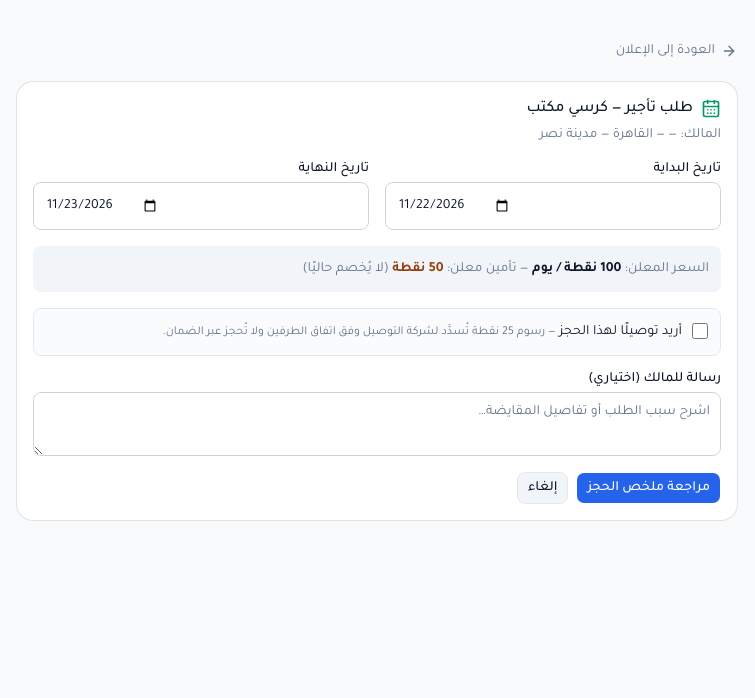
Scenario: A6 delivery in the booking flow (SRS §9.2 · 0033) › prices the delivery row from the listing fee and submits the choice (0033)
Later steps or results of the test are not shown.
Expected: the text "تاريخ البداية" is shown, [654,162,721,176]
Click the checkbox labelled "أريد توصيلًا لهذا الحجز".
click(700, 331)  # box [692,323,708,339]
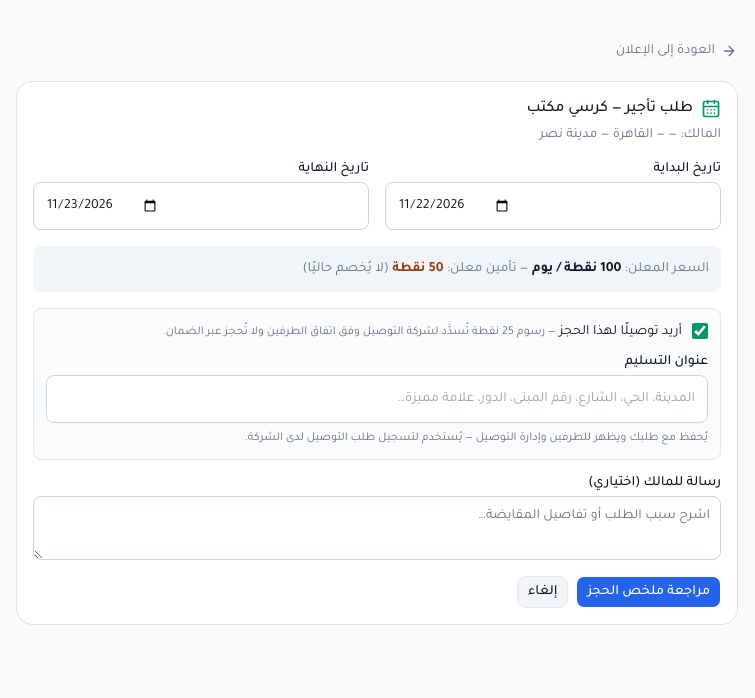
Type "القاهرة — مدينة نصر — شارع مصطفى النحاس 12" into the field labelled "عنوان التسليم".
click(377, 399); type("القاهرة — مدينة نصر — شارع مصطفى النحاس 12")  # box [46,375,708,423]
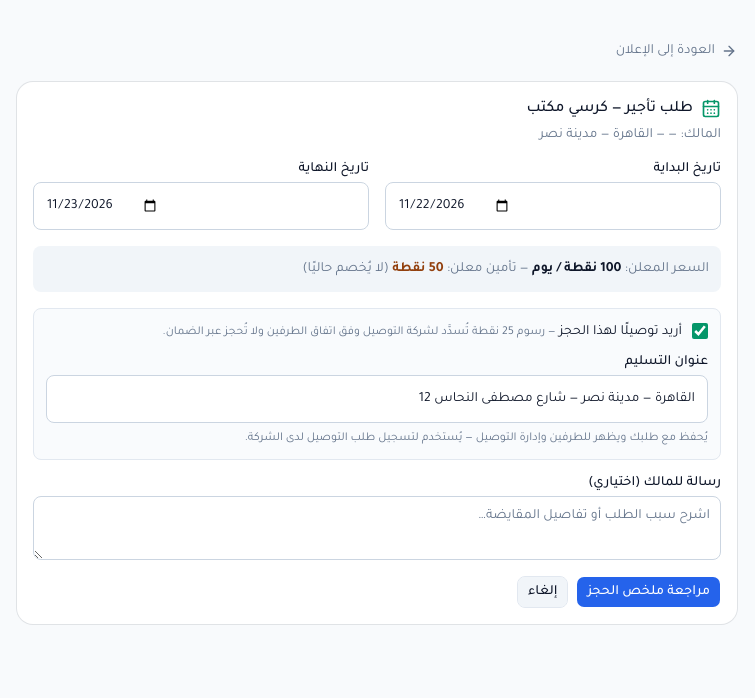
Click the button "مراجعة ملخص الحجز".
click(649, 592)  # box [576,576,721,608]
(page scrolled)
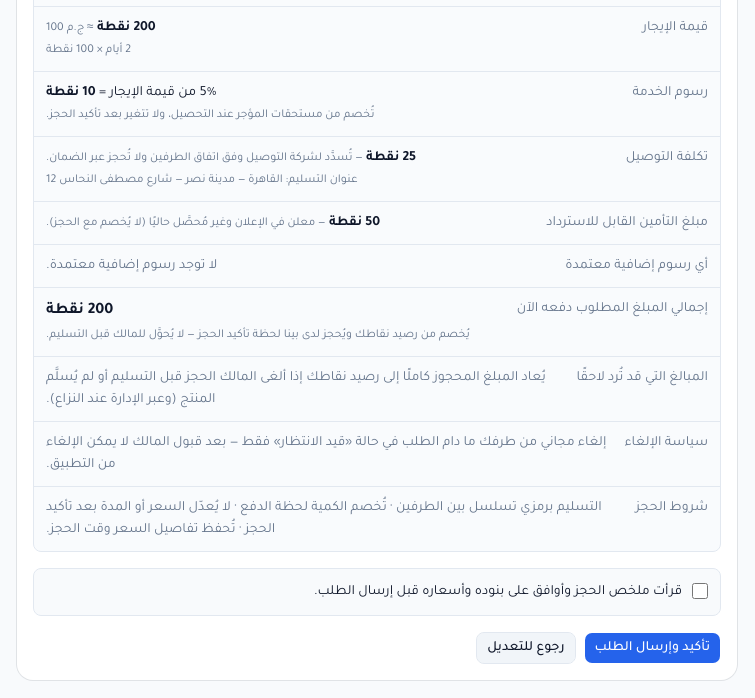
Expected: the text "تُسدَّد لشركة التوصيل وفق اتفاق الطرفين" is shown, [46,152,363,164]
Expected: the text "عنوان التسليم: القاهرة — مدينة نصر — شارع مصطفى النحاس 12" is shown, [46,174,358,186]
